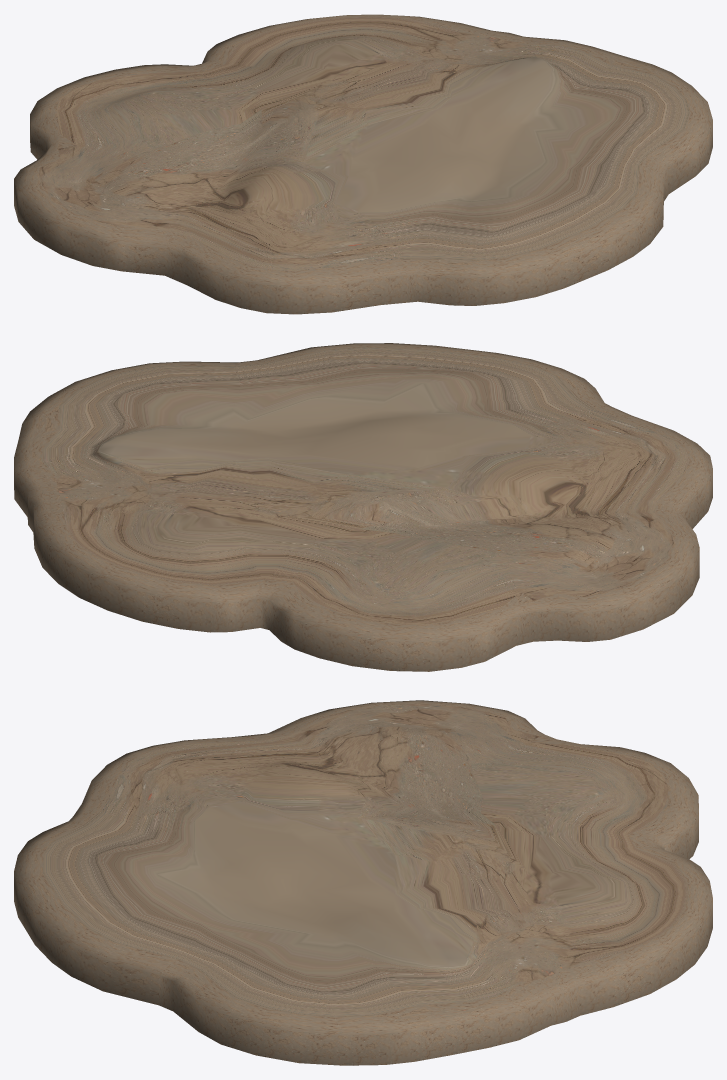
File: saltmine_floor_sand_cracked_02.dae
The picture shows the model from 3 angles, top to bottom: view 1: azimuth 30°, elevation 25°; view 2: azimuth 150°, elevation 25°; view 3: azimuth 270°, elevation 25°; orthographic projection. The views are drawn at different scales.
Visible parts, largest first — view 1: floor_02_cracked_sand; view 2: floor_02_cracked_sand; view 3: floor_02_cracked_sand.
Part boxes in pixels (x1=…): floor_02_cracked_sand: x1=14, y1=14, x2=712, y2=314; floor_02_cracked_sand: x1=14, y1=343, x2=712, y2=671; floor_02_cracked_sand: x1=14, y1=700, x2=712, y2=1065.
Bounding box in the file's own units: 5.9 × 0.4458 × 5.19.
